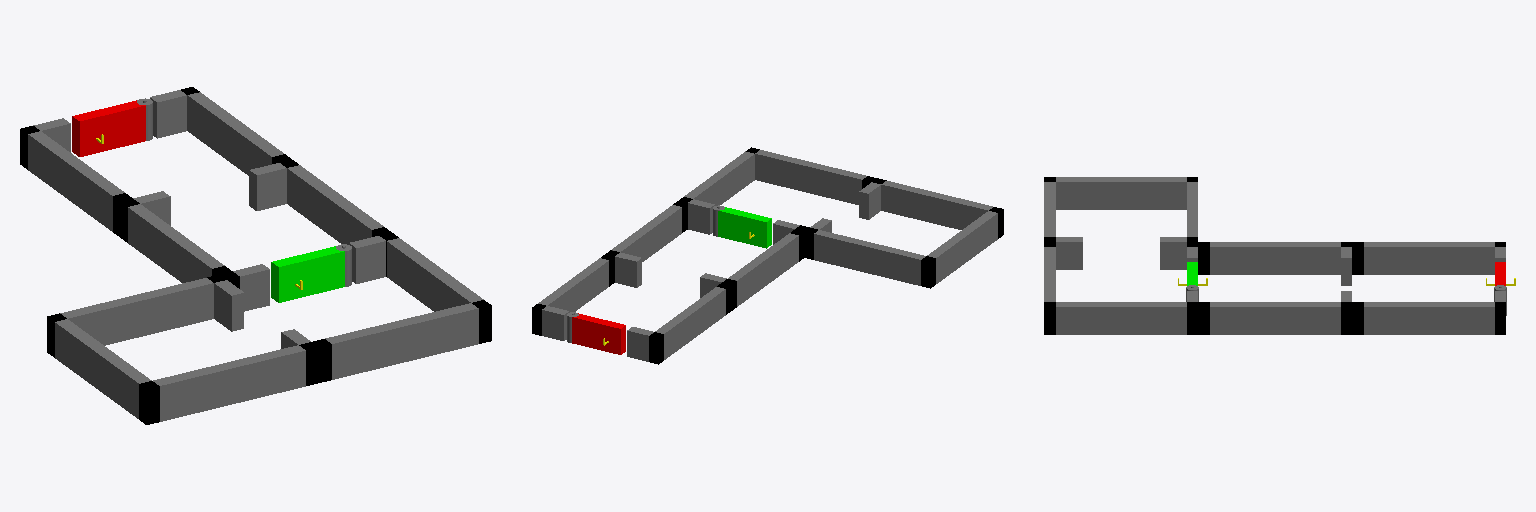
--- Render facts (derived) ---
3 views of the same robot in one strip: view 1: azimuth 30°, elevation 25°; view 2: azimuth 150°, elevation 25°; view 3: azimuth 270°, elevation 25° (orthographic).
Robot: rooms2 — 48 links, 47 joints (2 revolute, 45 fixed); root link base_link; default pose: every joint at zero.
Visible links, largest first — view 1: link_fixed_23_wall_(1.0, -0.4625), link_fixed_8_wall_(0.0, -0.4625), link_fixed_1_wall_(0.0, 0.4625), link_fixed_45_wall_(0.5375, 2.0), link_fixed_6_wall_(-0.4625, 0.0), link_fixed_43_wall_(1.4625, 2.0), link_fixed_28_wall_(1.4625, 1.0), link_fixed_30_wall_(0.5375, 1.0), link_fixed_20_wall_(1.4625, 0.0), link_fixed_14_door_panel, link_fixed_37_door_panel, link_fixed_26_wall_(1.3375, 1.4625) (+10 smaller); view 2: link_fixed_1_wall_(0.0, 0.4625), link_fixed_23_wall_(1.0, -0.4625), link_fixed_8_wall_(0.0, -0.4625), link_fixed_30_wall_(0.5375, 1.0), link_fixed_45_wall_(0.5375, 2.0), link_fixed_6_wall_(-0.4625, 0.0), link_fixed_28_wall_(1.4625, 1.0), link_fixed_20_wall_(1.4625, 0.0), link_fixed_43_wall_(1.4625, 2.0), link_fixed_37_door_panel, link_fixed_14_door_panel, link_fixed_26_wall_(1.3375, 1.4625) (+4 smaller); view 3: link_fixed_20_wall_(1.4625, 0.0), link_fixed_28_wall_(1.4625, 1.0), link_fixed_30_wall_(0.5375, 1.0), link_fixed_43_wall_(1.4625, 2.0), link_fixed_45_wall_(0.5375, 2.0), link_fixed_6_wall_(-0.4625, 0.0), link_fixed_3_wall_(0.4625, -0.3375), link_fixed_4_wall_(0.4625, 0.3375), link_fixed_23_wall_(1.0, -0.4625), link_fixed_8_wall_(0.0, -0.4625), link_fixed_1_wall_(0.0, 0.4625).
Link boxes in pixels (<box>): link_fixed_23_wall_(1.0, -0.4625): <box>325,303,478,379</box>; link_fixed_8_wall_(0.0, -0.4625): <box>153,345,305,421</box>; link_fixed_1_wall_(0.0, 0.4625): <box>60,278,213,345</box>; link_fixed_45_wall_(0.5375, 2.0): <box>28,131,124,231</box>; link_fixed_6_wall_(-0.4625, 0.0): <box>55,319,151,418</box>; link_fixed_43_wall_(1.4625, 2.0): <box>187,92,283,175</box>; link_fixed_28_wall_(1.4625, 1.0): <box>287,165,383,244</box>; link_fixed_30_wall_(0.5375, 1.0): <box>128,204,224,282</box>; link_fixed_20_wall_(1.4625, 0.0): <box>387,238,483,311</box>; link_fixed_14_door_panel: <box>271,246,344,302</box>; link_fixed_37_door_panel: <box>72,100,145,156</box>; link_fixed_26_wall_(1.3375, 1.4625): <box>249,163,286,210</box>; link_fixed_1_wall_(0.0, 0.4625): <box>814,230,925,285</box>; link_fixed_23_wall_(1.0, -0.4625): <box>755,150,866,204</box>; link_fixed_8_wall_(0.0, -0.4625): <box>881,181,992,229</box>; link_fixed_30_wall_(0.5375, 1.0): <box>728,233,798,306</box>; link_fixed_45_wall_(0.5375, 2.0): <box>655,287,725,359</box>; link_fixed_6_wall_(-0.4625, 0.0): <box>927,211,997,283</box>; link_fixed_28_wall_(1.4625, 1.0): <box>612,205,681,261</box>; link_fixed_20_wall_(1.4625, 0.0): <box>684,151,754,205</box>; link_fixed_43_wall_(1.4625, 2.0): <box>538,258,608,312</box>; link_fixed_37_door_panel: <box>572,313,625,354</box>; link_fixed_14_door_panel: <box>718,207,771,248</box>; link_fixed_26_wall_(1.3375, 1.4625): <box>615,252,641,287</box>; link_fixed_20_wall_(1.4625, 0.0): <box>1056,302,1186,334</box>; link_fixed_28_wall_(1.4625, 1.0): <box>1210,302,1340,334</box>; link_fixed_30_wall_(0.5375, 1.0): <box>1210,242,1340,274</box>; link_fixed_43_wall_(1.4625, 2.0): <box>1364,302,1494,334</box>; link_fixed_45_wall_(0.5375, 2.0): <box>1364,242,1494,274</box>; link_fixed_6_wall_(-0.4625, 0.0): <box>1056,177,1186,209</box>; link_fixed_3_wall_(0.4625, -0.3375): <box>1056,237,1082,269</box>; link_fixed_4_wall_(0.4625, 0.3375): <box>1160,237,1186,269</box>; link_fixed_23_wall_(1.0, -0.4625): <box>1044,247,1055,301</box>; link_fixed_8_wall_(0.0, -0.4625): <box>1044,182,1055,236</box>; link_fixed_1_wall_(0.0, 0.4625): <box>1187,182,1197,236</box>.
Bounding box of the posed robot: 8 × 12.24 × 0.879 m (x, y, z).
Geometry: primitives only (box / cylinder / sphere), no mesh files.

The robot description file, URDF, robot "rooms2":
<?xml version="1.0"?>
<!-- created with Phobos 1.0.1 "Capricious Choutengan" -->
  <robot name="rooms2">

    <link name="base_link">
    </link>

    <link name="link_0_joint_0">
      <visual name="visual_cylinder_12_link_0">
        <origin xyz="0 0 0" rpy="0 0 0"/>
        <geometry>
          <cylinder radius="0.1645" length="0.799"/>
        </geometry>
        <material name="gray"/>
      </visual>
      <collision name="collision_cylinder_12_link_0">
        <origin xyz="0 0 0" rpy="0 0 0"/>
        <geometry>
          <cylinder radius="0.1645" length="0.799"/>
        </geometry>
      </collision>
    </link>

    <link name="link_1_joint_0">
      <visual name="visual_cylinder_35_link_1">
        <origin xyz="0 0 0" rpy="0 0 0"/>
        <geometry>
          <cylinder radius="0.1645" length="0.799"/>
        </geometry>
        <material name="gray"/>
      </visual>
      <collision name="collision_cylinder_35_link_1">
        <origin xyz="0 0 0" rpy="0 0 0"/>
        <geometry>
          <cylinder radius="0.1645" length="0.799"/>
        </geometry>
      </collision>
    </link>

    <link name="link_fixed_0_pillar_(-0.4625, 0.4625)">
      <visual name="visual_box_fixed_0_pillar_(-0.4625, 0.4625)">
        <origin xyz="0 0 0" rpy="0 0 0"/>
        <geometry>
          <box size="0.299 0.299 0.799"/>
        </geometry>
        <material name="black"/>
      </visual>
      <collision name="collision_box_fixed_0_pillar_(-0.4625, 0.4625)">
        <origin xyz="0 0 0" rpy="0 0 0"/>
        <geometry>
          <box size="0.299 0.299 0.799"/>
        </geometry>
      </collision>
    </link>

    <link name="link_fixed_10_wall_(0.6625, 0.4625)">
      <visual name="visual_box_fixed_10_wall_(0.6625, 0.4625)">
        <origin xyz="0 0 0" rpy="0 0 0"/>
        <geometry>
          <box size="0.699 0.299 0.799"/>
        </geometry>
        <material name="gray"/>
      </visual>
      <collision name="collision_box_fixed_10_wall_(0.6625, 0.4625)">
        <origin xyz="0 0 0" rpy="0 0 0"/>
        <geometry>
          <box size="0.699 0.299 0.799"/>
        </geometry>
      </collision>
    </link>

    <link name="link_fixed_11_wall_(1.3375, 0.4625)">
      <visual name="visual_box_fixed_11_wall_(1.3375, 0.4625)">
        <origin xyz="0 0 0" rpy="0 0 0"/>
        <geometry>
          <box size="0.699 0.299 0.799"/>
        </geometry>
        <material name="gray"/>
      </visual>
      <collision name="collision_box_fixed_11_wall_(1.3375, 0.4625)">
        <origin xyz="0 0 0" rpy="0 0 0"/>
        <geometry>
          <box size="0.699 0.299 0.799"/>
        </geometry>
      </collision>
    </link>

    <link name="link_fixed_13_hinge">
      <visual name="visual_cylinder_fixed_13_hinge">
        <origin xyz="0 0 0" rpy="0 0 0"/>
        <geometry>
          <cylinder radius="0.04075" length="0.879"/>
        </geometry>
        <material name="gray"/>
      </visual>
    </link>

    <link name="link_fixed_14_door_panel">
      <visual name="visual_box_fixed_14_door_panel">
        <origin xyz="0 0 0" rpy="0 0 0"/>
        <geometry>
          <box size="1.599 0.299 0.795"/>
        </geometry>
        <material name="green"/>
      </visual>
      <collision name="collision_box_fixed_14_door_panel">
        <origin xyz="0 0 0" rpy="0 0 0"/>
        <geometry>
          <box size="1.599 0.299 0.795"/>
        </geometry>
      </collision>
    </link>

    <link name="link_fixed_15_door_handle1">
      <visual name="visual_box_fixed_15_door_handle1">
        <origin xyz="0 0 0" rpy="0 0 0"/>
        <geometry>
          <box size="0.039 0.039 0.199"/>
        </geometry>
        <material name="yellow"/>
      </visual>
      <collision name="collision_box_fixed_15_door_handle1">
        <origin xyz="0 0 0" rpy="0 0 0"/>
        <geometry>
          <box size="0.039 0.039 0.199"/>
        </geometry>
      </collision>
    </link>

    <link name="link_fixed_16_door_handle1_connector">
      <visual name="visual_box_fixed_16_door_handle1_connector">
        <origin xyz="0 0 0" rpy="0 0 0"/>
        <geometry>
          <box size="0.039 0.199 0.039"/>
        </geometry>
        <material name="yellow"/>
      </visual>
      <collision name="collision_box_fixed_16_door_handle1_connector">
        <origin xyz="0 0 0" rpy="0 0 0"/>
        <geometry>
          <box size="0.039 0.199 0.039"/>
        </geometry>
      </collision>
    </link>

    <link name="link_fixed_17_door_handle2">
      <visual name="visual_box_fixed_17_door_handle2">
        <origin xyz="0 0 0" rpy="0 0 0"/>
        <geometry>
          <box size="0.039 0.039 0.199"/>
        </geometry>
        <material name="yellow"/>
      </visual>
      <collision name="collision_box_fixed_17_door_handle2">
        <origin xyz="0 0 0" rpy="0 0 0"/>
        <geometry>
          <box size="0.039 0.039 0.199"/>
        </geometry>
      </collision>
    </link>

    <link name="link_fixed_18_door_handle2_connector">
      <visual name="visual_box_fixed_18_door_handle2_connector">
        <origin xyz="0 0 0" rpy="0 0 0"/>
        <geometry>
          <box size="0.039 0.199 0.039"/>
        </geometry>
        <material name="yellow"/>
      </visual>
      <collision name="collision_box_fixed_18_door_handle2_connector">
        <origin xyz="0 0 0" rpy="0 0 0"/>
        <geometry>
          <box size="0.039 0.199 0.039"/>
        </geometry>
      </collision>
    </link>

    <link name="link_fixed_19_pillar_(1.4625, 0.4625)">
      <visual name="visual_box_fixed_19_pillar_(1.4625, 0.4625)">
        <origin xyz="0 0 0" rpy="0 0 0"/>
        <geometry>
          <box size="0.299 0.299 0.799"/>
        </geometry>
        <material name="black"/>
      </visual>
      <collision name="collision_box_fixed_19_pillar_(1.4625, 0.4625)">
        <origin xyz="0 0 0" rpy="0 0 0"/>
        <geometry>
          <box size="0.299 0.299 0.799"/>
        </geometry>
      </collision>
    </link>

    <link name="link_fixed_1_wall_(0.0, 0.4625)">
      <visual name="visual_box_fixed_1_wall_(0.0, 0.4625)">
        <origin xyz="0 0 0" rpy="0 0 0"/>
        <geometry>
          <box size="3.399 0.299 0.799"/>
        </geometry>
        <material name="gray"/>
      </visual>
      <collision name="collision_box_fixed_1_wall_(0.0, 0.4625)">
        <origin xyz="0 0 0" rpy="0 0 0"/>
        <geometry>
          <box size="3.399 0.299 0.799"/>
        </geometry>
      </collision>
    </link>

    <link name="link_fixed_20_wall_(1.4625, 0.0)">
      <visual name="visual_box_fixed_20_wall_(1.4625, 0.0)">
        <origin xyz="0 0 0" rpy="0 0 0"/>
        <geometry>
          <box size="0.299 3.399 0.799"/>
        </geometry>
        <material name="gray"/>
      </visual>
      <collision name="collision_box_fixed_20_wall_(1.4625, 0.0)">
        <origin xyz="0 0 0" rpy="0 0 0"/>
        <geometry>
          <box size="0.299 3.399 0.799"/>
        </geometry>
      </collision>
    </link>

    <link name="link_fixed_21_pillar_(0.5375, -0.4625)">
      <visual name="visual_box_fixed_21_pillar_(0.5375, -0.4625)">
        <origin xyz="0 0 0" rpy="0 0 0"/>
        <geometry>
          <box size="0.299 0.299 0.799"/>
        </geometry>
        <material name="black"/>
      </visual>
      <collision name="collision_box_fixed_21_pillar_(0.5375, -0.4625)">
        <origin xyz="0 0 0" rpy="0 0 0"/>
        <geometry>
          <box size="0.299 0.299 0.799"/>
        </geometry>
      </collision>
    </link>

    <link name="link_fixed_22_pillar_(1.4625, -0.4625)">
      <visual name="visual_box_fixed_22_pillar_(1.4625, -0.4625)">
        <origin xyz="0 0 0" rpy="0 0 0"/>
        <geometry>
          <box size="0.299 0.299 0.799"/>
        </geometry>
        <material name="black"/>
      </visual>
      <collision name="collision_box_fixed_22_pillar_(1.4625, -0.4625)">
        <origin xyz="0 0 0" rpy="0 0 0"/>
        <geometry>
          <box size="0.299 0.299 0.799"/>
        </geometry>
      </collision>
    </link>

    <link name="link_fixed_23_wall_(1.0, -0.4625)">
      <visual name="visual_box_fixed_23_wall_(1.0, -0.4625)">
        <origin xyz="0 0 0" rpy="0 0 0"/>
        <geometry>
          <box size="3.399 0.299 0.799"/>
        </geometry>
        <material name="gray"/>
      </visual>
      <collision name="collision_box_fixed_23_wall_(1.0, -0.4625)">
        <origin xyz="0 0 0" rpy="0 0 0"/>
        <geometry>
          <box size="3.399 0.299 0.799"/>
        </geometry>
      </collision>
    </link>

    <link name="link_fixed_24_pillar_(0.5375, 1.4625)">
      <visual name="visual_box_fixed_24_pillar_(0.5375, 1.4625)">
        <origin xyz="0 0 0" rpy="0 0 0"/>
        <geometry>
          <box size="0.299 0.299 0.799"/>
        </geometry>
        <material name="black"/>
      </visual>
      <collision name="collision_box_fixed_24_pillar_(0.5375, 1.4625)">
        <origin xyz="0 0 0" rpy="0 0 0"/>
        <geometry>
          <box size="0.299 0.299 0.799"/>
        </geometry>
      </collision>
    </link>

    <link name="link_fixed_25_wall_(0.6625, 1.4625)">
      <visual name="visual_box_fixed_25_wall_(0.6625, 1.4625)">
        <origin xyz="0 0 0" rpy="0 0 0"/>
        <geometry>
          <box size="0.699 0.299 0.799"/>
        </geometry>
        <material name="gray"/>
      </visual>
      <collision name="collision_box_fixed_25_wall_(0.6625, 1.4625)">
        <origin xyz="0 0 0" rpy="0 0 0"/>
        <geometry>
          <box size="0.699 0.299 0.799"/>
        </geometry>
      </collision>
    </link>

    <link name="link_fixed_26_wall_(1.3375, 1.4625)">
      <visual name="visual_box_fixed_26_wall_(1.3375, 1.4625)">
        <origin xyz="0 0 0" rpy="0 0 0"/>
        <geometry>
          <box size="0.699 0.299 0.799"/>
        </geometry>
        <material name="gray"/>
      </visual>
      <collision name="collision_box_fixed_26_wall_(1.3375, 1.4625)">
        <origin xyz="0 0 0" rpy="0 0 0"/>
        <geometry>
          <box size="0.699 0.299 0.799"/>
        </geometry>
      </collision>
    </link>

    <link name="link_fixed_27_pillar_(1.4625, 1.4625)">
      <visual name="visual_box_fixed_27_pillar_(1.4625, 1.4625)">
        <origin xyz="0 0 0" rpy="0 0 0"/>
        <geometry>
          <box size="0.299 0.299 0.799"/>
        </geometry>
        <material name="black"/>
      </visual>
      <collision name="collision_box_fixed_27_pillar_(1.4625, 1.4625)">
        <origin xyz="0 0 0" rpy="0 0 0"/>
        <geometry>
          <box size="0.299 0.299 0.799"/>
        </geometry>
      </collision>
    </link>

    <link name="link_fixed_28_wall_(1.4625, 1.0)">
      <visual name="visual_box_fixed_28_wall_(1.4625, 1.0)">
        <origin xyz="0 0 0" rpy="0 0 0"/>
        <geometry>
          <box size="0.299 3.399 0.799"/>
        </geometry>
        <material name="gray"/>
      </visual>
      <collision name="collision_box_fixed_28_wall_(1.4625, 1.0)">
        <origin xyz="0 0 0" rpy="0 0 0"/>
        <geometry>
          <box size="0.299 3.399 0.799"/>
        </geometry>
      </collision>
    </link>

    <link name="link_fixed_29_pillar_(0.5375, 0.5375)">
      <visual name="visual_box_fixed_29_pillar_(0.5375, 0.5375)">
        <origin xyz="0 0 0" rpy="0 0 0"/>
        <geometry>
          <box size="0.299 0.299 0.799"/>
        </geometry>
        <material name="black"/>
      </visual>
      <collision name="collision_box_fixed_29_pillar_(0.5375, 0.5375)">
        <origin xyz="0 0 0" rpy="0 0 0"/>
        <geometry>
          <box size="0.299 0.299 0.799"/>
        </geometry>
      </collision>
    </link>

    <link name="link_fixed_2_pillar_(0.4625, 0.4625)">
      <visual name="visual_box_fixed_2_pillar_(0.4625, 0.4625)">
        <origin xyz="0 0 0" rpy="0 0 0"/>
        <geometry>
          <box size="0.299 0.299 0.799"/>
        </geometry>
        <material name="black"/>
      </visual>
      <collision name="collision_box_fixed_2_pillar_(0.4625, 0.4625)">
        <origin xyz="0 0 0" rpy="0 0 0"/>
        <geometry>
          <box size="0.299 0.299 0.799"/>
        </geometry>
      </collision>
    </link>

    <link name="link_fixed_30_wall_(0.5375, 1.0)">
      <visual name="visual_box_fixed_30_wall_(0.5375, 1.0)">
        <origin xyz="0 0 0" rpy="0 0 0"/>
        <geometry>
          <box size="0.299 3.399 0.799"/>
        </geometry>
        <material name="gray"/>
      </visual>
      <collision name="collision_box_fixed_30_wall_(0.5375, 1.0)">
        <origin xyz="0 0 0" rpy="0 0 0"/>
        <geometry>
          <box size="0.299 3.399 0.799"/>
        </geometry>
      </collision>
    </link>

    <link name="link_fixed_31_pillar_(1.4625, 0.5375)">
      <visual name="visual_box_fixed_31_pillar_(1.4625, 0.5375)">
        <origin xyz="0 0 0" rpy="0 0 0"/>
        <geometry>
          <box size="0.299 0.299 0.799"/>
        </geometry>
        <material name="black"/>
      </visual>
      <collision name="collision_box_fixed_31_pillar_(1.4625, 0.5375)">
        <origin xyz="0 0 0" rpy="0 0 0"/>
        <geometry>
          <box size="0.299 0.299 0.799"/>
        </geometry>
      </collision>
    </link>

    <link name="link_fixed_32_pillar_(0.5375, 2.4625)">
      <visual name="visual_box_fixed_32_pillar_(0.5375, 2.4625)">
        <origin xyz="0 0 0" rpy="0 0 0"/>
        <geometry>
          <box size="0.299 0.299 0.799"/>
        </geometry>
        <material name="black"/>
      </visual>
      <collision name="collision_box_fixed_32_pillar_(0.5375, 2.4625)">
        <origin xyz="0 0 0" rpy="0 0 0"/>
        <geometry>
          <box size="0.299 0.299 0.799"/>
        </geometry>
      </collision>
    </link>

    <link name="link_fixed_33_wall_(0.6625, 2.4625)">
      <visual name="visual_box_fixed_33_wall_(0.6625, 2.4625)">
        <origin xyz="0 0 0" rpy="0 0 0"/>
        <geometry>
          <box size="0.699 0.299 0.799"/>
        </geometry>
        <material name="gray"/>
      </visual>
      <collision name="collision_box_fixed_33_wall_(0.6625, 2.4625)">
        <origin xyz="0 0 0" rpy="0 0 0"/>
        <geometry>
          <box size="0.699 0.299 0.799"/>
        </geometry>
      </collision>
    </link>

    <link name="link_fixed_34_wall_(1.3375, 2.4625)">
      <visual name="visual_box_fixed_34_wall_(1.3375, 2.4625)">
        <origin xyz="0 0 0" rpy="0 0 0"/>
        <geometry>
          <box size="0.699 0.299 0.799"/>
        </geometry>
        <material name="gray"/>
      </visual>
      <collision name="collision_box_fixed_34_wall_(1.3375, 2.4625)">
        <origin xyz="0 0 0" rpy="0 0 0"/>
        <geometry>
          <box size="0.699 0.299 0.799"/>
        </geometry>
      </collision>
    </link>

    <link name="link_fixed_36_hinge">
      <visual name="visual_cylinder_fixed_36_hinge">
        <origin xyz="0 0 0" rpy="0 0 0"/>
        <geometry>
          <cylinder radius="0.04075" length="0.879"/>
        </geometry>
        <material name="gray"/>
      </visual>
    </link>

    <link name="link_fixed_37_door_panel">
      <visual name="visual_box_fixed_37_door_panel">
        <origin xyz="0 0 0" rpy="0 0 0"/>
        <geometry>
          <box size="1.599 0.299 0.795"/>
        </geometry>
        <material name="red"/>
      </visual>
      <collision name="collision_box_fixed_37_door_panel">
        <origin xyz="0 0 0" rpy="0 0 0"/>
        <geometry>
          <box size="1.599 0.299 0.795"/>
        </geometry>
      </collision>
    </link>

    <link name="link_fixed_38_door_handle1">
      <visual name="visual_box_fixed_38_door_handle1">
        <origin xyz="0 0 0" rpy="0 0 0"/>
        <geometry>
          <box size="0.039 0.039 0.199"/>
        </geometry>
        <material name="yellow"/>
      </visual>
      <collision name="collision_box_fixed_38_door_handle1">
        <origin xyz="0 0 0" rpy="0 0 0"/>
        <geometry>
          <box size="0.039 0.039 0.199"/>
        </geometry>
      </collision>
    </link>

    <link name="link_fixed_39_door_handle1_connector">
      <visual name="visual_box_fixed_39_door_handle1_connector">
        <origin xyz="0 0 0" rpy="0 0 0"/>
        <geometry>
          <box size="0.039 0.199 0.039"/>
        </geometry>
        <material name="yellow"/>
      </visual>
      <collision name="collision_box_fixed_39_door_handle1_connector">
        <origin xyz="0 0 0" rpy="0 0 0"/>
        <geometry>
          <box size="0.039 0.199 0.039"/>
        </geometry>
      </collision>
    </link>

    <link name="link_fixed_3_wall_(0.4625, -0.3375)">
      <visual name="visual_box_fixed_3_wall_(0.4625, -0.3375)">
        <origin xyz="0 0 0" rpy="0 0 0"/>
        <geometry>
          <box size="0.299 0.699 0.799"/>
        </geometry>
        <material name="gray"/>
      </visual>
      <collision name="collision_box_fixed_3_wall_(0.4625, -0.3375)">
        <origin xyz="0 0 0" rpy="0 0 0"/>
        <geometry>
          <box size="0.299 0.699 0.799"/>
        </geometry>
      </collision>
    </link>

    <link name="link_fixed_40_door_handle2">
      <visual name="visual_box_fixed_40_door_handle2">
        <origin xyz="0 0 0" rpy="0 0 0"/>
        <geometry>
          <box size="0.039 0.039 0.199"/>
        </geometry>
        <material name="yellow"/>
      </visual>
      <collision name="collision_box_fixed_40_door_handle2">
        <origin xyz="0 0 0" rpy="0 0 0"/>
        <geometry>
          <box size="0.039 0.039 0.199"/>
        </geometry>
      </collision>
    </link>

    <link name="link_fixed_41_door_handle2_connector">
      <visual name="visual_box_fixed_41_door_handle2_connector">
        <origin xyz="0 0 0" rpy="0 0 0"/>
        <geometry>
          <box size="0.039 0.199 0.039"/>
        </geometry>
        <material name="yellow"/>
      </visual>
      <collision name="collision_box_fixed_41_door_handle2_connector">
        <origin xyz="0 0 0" rpy="0 0 0"/>
        <geometry>
          <box size="0.039 0.199 0.039"/>
        </geometry>
      </collision>
    </link>

    <link name="link_fixed_42_pillar_(1.4625, 2.4625)">
      <visual name="visual_box_fixed_42_pillar_(1.4625, 2.4625)">
        <origin xyz="0 0 0" rpy="0 0 0"/>
        <geometry>
          <box size="0.299 0.299 0.799"/>
        </geometry>
        <material name="black"/>
      </visual>
      <collision name="collision_box_fixed_42_pillar_(1.4625, 2.4625)">
        <origin xyz="0 0 0" rpy="0 0 0"/>
        <geometry>
          <box size="0.299 0.299 0.799"/>
        </geometry>
      </collision>
    </link>

    <link name="link_fixed_43_wall_(1.4625, 2.0)">
      <visual name="visual_box_fixed_43_wall_(1.4625, 2.0)">
        <origin xyz="0 0 0" rpy="0 0 0"/>
        <geometry>
          <box size="0.299 3.399 0.799"/>
        </geometry>
        <material name="gray"/>
      </visual>
      <collision name="collision_box_fixed_43_wall_(1.4625, 2.0)">
        <origin xyz="0 0 0" rpy="0 0 0"/>
        <geometry>
          <box size="0.299 3.399 0.799"/>
        </geometry>
      </collision>
    </link>

    <link name="link_fixed_44_pillar_(0.5375, 1.5375)">
      <visual name="visual_box_fixed_44_pillar_(0.5375, 1.5375)">
        <origin xyz="0 0 0" rpy="0 0 0"/>
        <geometry>
          <box size="0.299 0.299 0.799"/>
        </geometry>
        <material name="black"/>
      </visual>
      <collision name="collision_box_fixed_44_pillar_(0.5375, 1.5375)">
        <origin xyz="0 0 0" rpy="0 0 0"/>
        <geometry>
          <box size="0.299 0.299 0.799"/>
        </geometry>
      </collision>
    </link>

    <link name="link_fixed_45_wall_(0.5375, 2.0)">
      <visual name="visual_box_fixed_45_wall_(0.5375, 2.0)">
        <origin xyz="0 0 0" rpy="0 0 0"/>
        <geometry>
          <box size="0.299 3.399 0.799"/>
        </geometry>
        <material name="gray"/>
      </visual>
      <collision name="collision_box_fixed_45_wall_(0.5375, 2.0)">
        <origin xyz="0 0 0" rpy="0 0 0"/>
        <geometry>
          <box size="0.299 3.399 0.799"/>
        </geometry>
      </collision>
    </link>

    <link name="link_fixed_46_pillar_(1.4625, 1.5375)">
      <visual name="visual_box_fixed_46_pillar_(1.4625, 1.5375)">
        <origin xyz="0 0 0" rpy="0 0 0"/>
        <geometry>
          <box size="0.299 0.299 0.799"/>
        </geometry>
        <material name="black"/>
      </visual>
      <collision name="collision_box_fixed_46_pillar_(1.4625, 1.5375)">
        <origin xyz="0 0 0" rpy="0 0 0"/>
        <geometry>
          <box size="0.299 0.299 0.799"/>
        </geometry>
      </collision>
    </link>

    <link name="link_fixed_4_wall_(0.4625, 0.3375)">
      <visual name="visual_box_fixed_4_wall_(0.4625, 0.3375)">
        <origin xyz="0 0 0" rpy="0 0 0"/>
        <geometry>
          <box size="0.299 0.699 0.799"/>
        </geometry>
        <material name="gray"/>
      </visual>
      <collision name="collision_box_fixed_4_wall_(0.4625, 0.3375)">
        <origin xyz="0 0 0" rpy="0 0 0"/>
        <geometry>
          <box size="0.299 0.699 0.799"/>
        </geometry>
      </collision>
    </link>

    <link name="link_fixed_5_pillar_(-0.4625, -0.4625)">
      <visual name="visual_box_fixed_5_pillar_(-0.4625, -0.4625)">
        <origin xyz="0 0 0" rpy="0 0 0"/>
        <geometry>
          <box size="0.299 0.299 0.799"/>
        </geometry>
        <material name="black"/>
      </visual>
      <collision name="collision_box_fixed_5_pillar_(-0.4625, -0.4625)">
        <origin xyz="0 0 0" rpy="0 0 0"/>
        <geometry>
          <box size="0.299 0.299 0.799"/>
        </geometry>
      </collision>
    </link>

    <link name="link_fixed_6_wall_(-0.4625, 0.0)">
      <visual name="visual_box_fixed_6_wall_(-0.4625, 0.0)">
        <origin xyz="0 0 0" rpy="0 0 0"/>
        <geometry>
          <box size="0.299 3.399 0.799"/>
        </geometry>
        <material name="gray"/>
      </visual>
      <collision name="collision_box_fixed_6_wall_(-0.4625, 0.0)">
        <origin xyz="0 0 0" rpy="0 0 0"/>
        <geometry>
          <box size="0.299 3.399 0.799"/>
        </geometry>
      </collision>
    </link>

    <link name="link_fixed_7_pillar_(0.4625, -0.4625)">
      <visual name="visual_box_fixed_7_pillar_(0.4625, -0.4625)">
        <origin xyz="0 0 0" rpy="0 0 0"/>
        <geometry>
          <box size="0.299 0.299 0.799"/>
        </geometry>
        <material name="black"/>
      </visual>
      <collision name="collision_box_fixed_7_pillar_(0.4625, -0.4625)">
        <origin xyz="0 0 0" rpy="0 0 0"/>
        <geometry>
          <box size="0.299 0.299 0.799"/>
        </geometry>
      </collision>
    </link>

    <link name="link_fixed_8_wall_(0.0, -0.4625)">
      <visual name="visual_box_fixed_8_wall_(0.0, -0.4625)">
        <origin xyz="0 0 0" rpy="0 0 0"/>
        <geometry>
          <box size="3.399 0.299 0.799"/>
        </geometry>
        <material name="gray"/>
      </visual>
      <collision name="collision_box_fixed_8_wall_(0.0, -0.4625)">
        <origin xyz="0 0 0" rpy="0 0 0"/>
        <geometry>
          <box size="3.399 0.299 0.799"/>
        </geometry>
      </collision>
    </link>

    <link name="link_fixed_9_pillar_(0.5375, 0.4625)">
      <visual name="visual_box_fixed_9_pillar_(0.5375, 0.4625)">
        <origin xyz="0 0 0" rpy="0 0 0"/>
        <geometry>
          <box size="0.299 0.299 0.799"/>
        </geometry>
        <material name="black"/>
      </visual>
      <collision name="collision_box_fixed_9_pillar_(0.5375, 0.4625)">
        <origin xyz="0 0 0" rpy="0 0 0"/>
        <geometry>
          <box size="0.299 0.299 0.799"/>
        </geometry>
      </collision>
    </link>

    <joint name="link_0_joint_0" type="revolute">
      <origin xyz="4.8 1.85 0.4" rpy="0 0 3.14159"/>
      <parent link="base_link"/>
      <child link="link_0_joint_0"/>
      <axis xyz="0 0 1.0"/>
      <limit lower="0" upper="1.5708" effort="0" velocity="0"/>
    </joint>

    <joint name="link_1_joint_0" type="revolute">
      <origin xyz="4.8 9.85 0.4" rpy="0 0 3.14159"/>
      <parent link="base_link"/>
      <child link="link_1_joint_0"/>
      <axis xyz="0 0 1.0"/>
      <limit lower="0" upper="1.5708" effort="0" velocity="0"/>
    </joint>

    <joint name="link_fixed_0_pillar_(-0.4625, 0.4625)" type="fixed">
      <origin xyz="-1.85 1.85 0.4" rpy="0 0 0"/>
      <parent link="base_link"/>
      <child link="link_fixed_0_pillar_(-0.4625, 0.4625)"/>
    </joint>

    <joint name="link_fixed_10_wall_(0.6625, 0.4625)" type="fixed">
      <origin xyz="2.65 1.85 0.4" rpy="0 0 0"/>
      <parent link="base_link"/>
      <child link="link_fixed_10_wall_(0.6625, 0.4625)"/>
    </joint>

    <joint name="link_fixed_11_wall_(1.3375, 0.4625)" type="fixed">
      <origin xyz="5.35 1.85 0.4" rpy="0 0 0"/>
      <parent link="base_link"/>
      <child link="link_fixed_11_wall_(1.3375, 0.4625)"/>
    </joint>

    <joint name="link_fixed_13_hinge" type="fixed">
      <origin xyz="0 0 0" rpy="0 0 0"/>
      <parent link="link_0_joint_0"/>
      <child link="link_fixed_13_hinge"/>
    </joint>

    <joint name="link_fixed_14_door_panel" type="fixed">
      <origin xyz="0.8 0 0" rpy="0 0 0"/>
      <parent link="link_0_joint_0"/>
      <child link="link_fixed_14_door_panel"/>
    </joint>

    <joint name="link_fixed_15_door_handle1" type="fixed">
      <origin xyz="1.2 0.37 0" rpy="0 0 0"/>
      <parent link="link_0_joint_0"/>
      <child link="link_fixed_15_door_handle1"/>
    </joint>

    <joint name="link_fixed_16_door_handle1_connector" type="fixed">
      <origin xyz="1.2 0.25 -0.08" rpy="0 0 0"/>
      <parent link="link_0_joint_0"/>
      <child link="link_fixed_16_door_handle1_connector"/>
    </joint>

    <joint name="link_fixed_17_door_handle2" type="fixed">
      <origin xyz="1.2 -0.37 0" rpy="0 0 0"/>
      <parent link="link_0_joint_0"/>
      <child link="link_fixed_17_door_handle2"/>
    </joint>

    <joint name="link_fixed_18_door_handle2_connector" type="fixed">
      <origin xyz="1.2 -0.25 -0.08" rpy="0 0 0"/>
      <parent link="link_0_joint_0"/>
      <child link="link_fixed_18_door_handle2_connector"/>
    </joint>

    <joint name="link_fixed_19_pillar_(1.4625, 0.4625)" type="fixed">
      <origin xyz="5.85 1.85 0.4" rpy="0 0 0"/>
      <parent link="base_link"/>
      <child link="link_fixed_19_pillar_(1.4625, 0.4625)"/>
    </joint>

    <joint name="link_fixed_1_wall_(0.0, 0.4625)" type="fixed">
      <origin xyz="0 1.85 0.4" rpy="0 0 0"/>
      <parent link="base_link"/>
      <child link="link_fixed_1_wall_(0.0, 0.4625)"/>
    </joint>

    <joint name="link_fixed_20_wall_(1.4625, 0.0)" type="fixed">
      <origin xyz="5.85 0 0.4" rpy="0 0 0"/>
      <parent link="base_link"/>
      <child link="link_fixed_20_wall_(1.4625, 0.0)"/>
    </joint>

    <joint name="link_fixed_21_pillar_(0.5375, -0.4625)" type="fixed">
      <origin xyz="2.15 -1.85 0.4" rpy="0 0 0"/>
      <parent link="base_link"/>
      <child link="link_fixed_21_pillar_(0.5375, -0.4625)"/>
    </joint>

    <joint name="link_fixed_22_pillar_(1.4625, -0.4625)" type="fixed">
      <origin xyz="5.85 -1.85 0.4" rpy="0 0 0"/>
      <parent link="base_link"/>
      <child link="link_fixed_22_pillar_(1.4625, -0.4625)"/>
    </joint>

    <joint name="link_fixed_23_wall_(1.0, -0.4625)" type="fixed">
      <origin xyz="4.0 -1.85 0.4" rpy="0 0 0"/>
      <parent link="base_link"/>
      <child link="link_fixed_23_wall_(1.0, -0.4625)"/>
    </joint>

    <joint name="link_fixed_24_pillar_(0.5375, 1.4625)" type="fixed">
      <origin xyz="2.15 5.85 0.4" rpy="0 0 0"/>
      <parent link="base_link"/>
      <child link="link_fixed_24_pillar_(0.5375, 1.4625)"/>
    </joint>

    <joint name="link_fixed_25_wall_(0.6625, 1.4625)" type="fixed">
      <origin xyz="2.65 5.85 0.4" rpy="0 0 0"/>
      <parent link="base_link"/>
      <child link="link_fixed_25_wall_(0.6625, 1.4625)"/>
    </joint>

    <joint name="link_fixed_26_wall_(1.3375, 1.4625)" type="fixed">
      <origin xyz="5.35 5.85 0.4" rpy="0 0 0"/>
      <parent link="base_link"/>
      <child link="link_fixed_26_wall_(1.3375, 1.4625)"/>
    </joint>

    <joint name="link_fixed_27_pillar_(1.4625, 1.4625)" type="fixed">
      <origin xyz="5.85 5.85 0.4" rpy="0 0 0"/>
      <parent link="base_link"/>
      <child link="link_fixed_27_pillar_(1.4625, 1.4625)"/>
    </joint>

    <joint name="link_fixed_28_wall_(1.4625, 1.0)" type="fixed">
      <origin xyz="5.85 4.0 0.4" rpy="0 0 0"/>
      <parent link="base_link"/>
      <child link="link_fixed_28_wall_(1.4625, 1.0)"/>
    </joint>

    <joint name="link_fixed_29_pillar_(0.5375, 0.5375)" type="fixed">
      <origin xyz="2.15 2.15 0.4" rpy="0 0 0"/>
      <parent link="base_link"/>
      <child link="link_fixed_29_pillar_(0.5375, 0.5375)"/>
    </joint>

    <joint name="link_fixed_2_pillar_(0.4625, 0.4625)" type="fixed">
      <origin xyz="1.85 1.85 0.4" rpy="0 0 0"/>
      <parent link="base_link"/>
      <child link="link_fixed_2_pillar_(0.4625, 0.4625)"/>
    </joint>

    <joint name="link_fixed_30_wall_(0.5375, 1.0)" type="fixed">
      <origin xyz="2.15 4.0 0.4" rpy="0 0 0"/>
      <parent link="base_link"/>
      <child link="link_fixed_30_wall_(0.5375, 1.0)"/>
    </joint>

    <joint name="link_fixed_31_pillar_(1.4625, 0.5375)" type="fixed">
      <origin xyz="5.85 2.15 0.4" rpy="0 0 0"/>
      <parent link="base_link"/>
      <child link="link_fixed_31_pillar_(1.4625, 0.5375)"/>
    </joint>

    <joint name="link_fixed_32_pillar_(0.5375, 2.4625)" type="fixed">
      <origin xyz="2.15 9.85 0.4" rpy="0 0 0"/>
      <parent link="base_link"/>
      <child link="link_fixed_32_pillar_(0.5375, 2.4625)"/>
    </joint>

    <joint name="link_fixed_33_wall_(0.6625, 2.4625)" type="fixed">
      <origin xyz="2.65 9.85 0.4" rpy="0 0 0"/>
      <parent link="base_link"/>
      <child link="link_fixed_33_wall_(0.6625, 2.4625)"/>
    </joint>

    <joint name="link_fixed_34_wall_(1.3375, 2.4625)" type="fixed">
      <origin xyz="5.35 9.85 0.4" rpy="0 0 0"/>
      <parent link="base_link"/>
      <child link="link_fixed_34_wall_(1.3375, 2.4625)"/>
    </joint>

    <joint name="link_fixed_36_hinge" type="fixed">
      <origin xyz="0 0 0" rpy="0 0 0"/>
      <parent link="link_1_joint_0"/>
      <child link="link_fixed_36_hinge"/>
    </joint>

    <joint name="link_fixed_37_door_panel" type="fixed">
      <origin xyz="0.8 0 0" rpy="0 0 0"/>
      <parent link="link_1_joint_0"/>
      <child link="link_fixed_37_door_panel"/>
    </joint>

    <joint name="link_fixed_38_door_handle1" type="fixed">
      <origin xyz="1.2 0.37 0" rpy="0 0 0"/>
      <parent link="link_1_joint_0"/>
      <child link="link_fixed_38_door_handle1"/>
    </joint>

    <joint name="link_fixed_39_door_handle1_connector" type="fixed">
      <origin xyz="1.2 0.25 -0.08" rpy="0 0 0"/>
      <parent link="link_1_joint_0"/>
      <child link="link_fixed_39_door_handle1_connector"/>
    </joint>

    <joint name="link_fixed_3_wall_(0.4625, -0.3375)" type="fixed">
      <origin xyz="1.85 -1.35 0.4" rpy="0 0 0"/>
      <parent link="base_link"/>
      <child link="link_fixed_3_wall_(0.4625, -0.3375)"/>
    </joint>

    <joint name="link_fixed_40_door_handle2" type="fixed">
      <origin xyz="1.2 -0.37 0" rpy="0 0 0"/>
      <parent link="link_1_joint_0"/>
      <child link="link_fixed_40_door_handle2"/>
    </joint>

    <joint name="link_fixed_41_door_handle2_connector" type="fixed">
      <origin xyz="1.2 -0.25 -0.08" rpy="0 0 0"/>
      <parent link="link_1_joint_0"/>
      <child link="link_fixed_41_door_handle2_connector"/>
    </joint>

    <joint name="link_fixed_42_pillar_(1.4625, 2.4625)" type="fixed">
      <origin xyz="5.85 9.85 0.4" rpy="0 0 0"/>
      <parent link="base_link"/>
      <child link="link_fixed_42_pillar_(1.4625, 2.4625)"/>
    </joint>

    <joint name="link_fixed_43_wall_(1.4625, 2.0)" type="fixed">
      <origin xyz="5.85 8.0 0.4" rpy="0 0 0"/>
      <parent link="base_link"/>
      <child link="link_fixed_43_wall_(1.4625, 2.0)"/>
    </joint>

    <joint name="link_fixed_44_pillar_(0.5375, 1.5375)" type="fixed">
      <origin xyz="2.15 6.15 0.4" rpy="0 0 0"/>
      <parent link="base_link"/>
      <child link="link_fixed_44_pillar_(0.5375, 1.5375)"/>
    </joint>

    <joint name="link_fixed_45_wall_(0.5375, 2.0)" type="fixed">
      <origin xyz="2.15 8.0 0.4" rpy="0 0 0"/>
      <parent link="base_link"/>
      <child link="link_fixed_45_wall_(0.5375, 2.0)"/>
    </joint>

    <joint name="link_fixed_46_pillar_(1.4625, 1.5375)" type="fixed">
      <origin xyz="5.85 6.15 0.4" rpy="0 0 0"/>
      <parent link="base_link"/>
      <child link="link_fixed_46_pillar_(1.4625, 1.5375)"/>
    </joint>

    <joint name="link_fixed_4_wall_(0.4625, 0.3375)" type="fixed">
      <origin xyz="1.85 1.35 0.4" rpy="0 0 0"/>
      <parent link="base_link"/>
      <child link="link_fixed_4_wall_(0.4625, 0.3375)"/>
    </joint>

    <joint name="link_fixed_5_pillar_(-0.4625, -0.4625)" type="fixed">
      <origin xyz="-1.85 -1.85 0.4" rpy="0 0 0"/>
      <parent link="base_link"/>
      <child link="link_fixed_5_pillar_(-0.4625, -0.4625)"/>
    </joint>

    <joint name="link_fixed_6_wall_(-0.4625, 0.0)" type="fixed">
      <origin xyz="-1.85 0 0.4" rpy="0 0 0"/>
      <parent link="base_link"/>
      <child link="link_fixed_6_wall_(-0.4625, 0.0)"/>
    </joint>

    <joint name="link_fixed_7_pillar_(0.4625, -0.4625)" type="fixed">
      <origin xyz="1.85 -1.85 0.4" rpy="0 0 0"/>
      <parent link="base_link"/>
      <child link="link_fixed_7_pillar_(0.4625, -0.4625)"/>
    </joint>

    <joint name="link_fixed_8_wall_(0.0, -0.4625)" type="fixed">
      <origin xyz="0 -1.85 0.4" rpy="0 0 0"/>
      <parent link="base_link"/>
      <child link="link_fixed_8_wall_(0.0, -0.4625)"/>
    </joint>

    <joint name="link_fixed_9_pillar_(0.5375, 0.4625)" type="fixed">
      <origin xyz="2.15 1.85 0.4" rpy="0 0 0"/>
      <parent link="base_link"/>
      <child link="link_fixed_9_pillar_(0.5375, 0.4625)"/>
    </joint>

    <material name="black">
      <color rgba="0 0 0 1.0"/>
    </material>

    <material name="gray">
      <color rgba="0.5 0.5 0.5 1.0"/>
    </material>

    <material name="green">
      <color rgba="0 1.0 0 1.0"/>
    </material>

    <material name="red">
      <color rgba="1.0 0 0 1.0"/>
    </material>

    <material name="yellow">
      <color rgba="1.0 1.0 0 1.0"/>
    </material>

  </robot>
